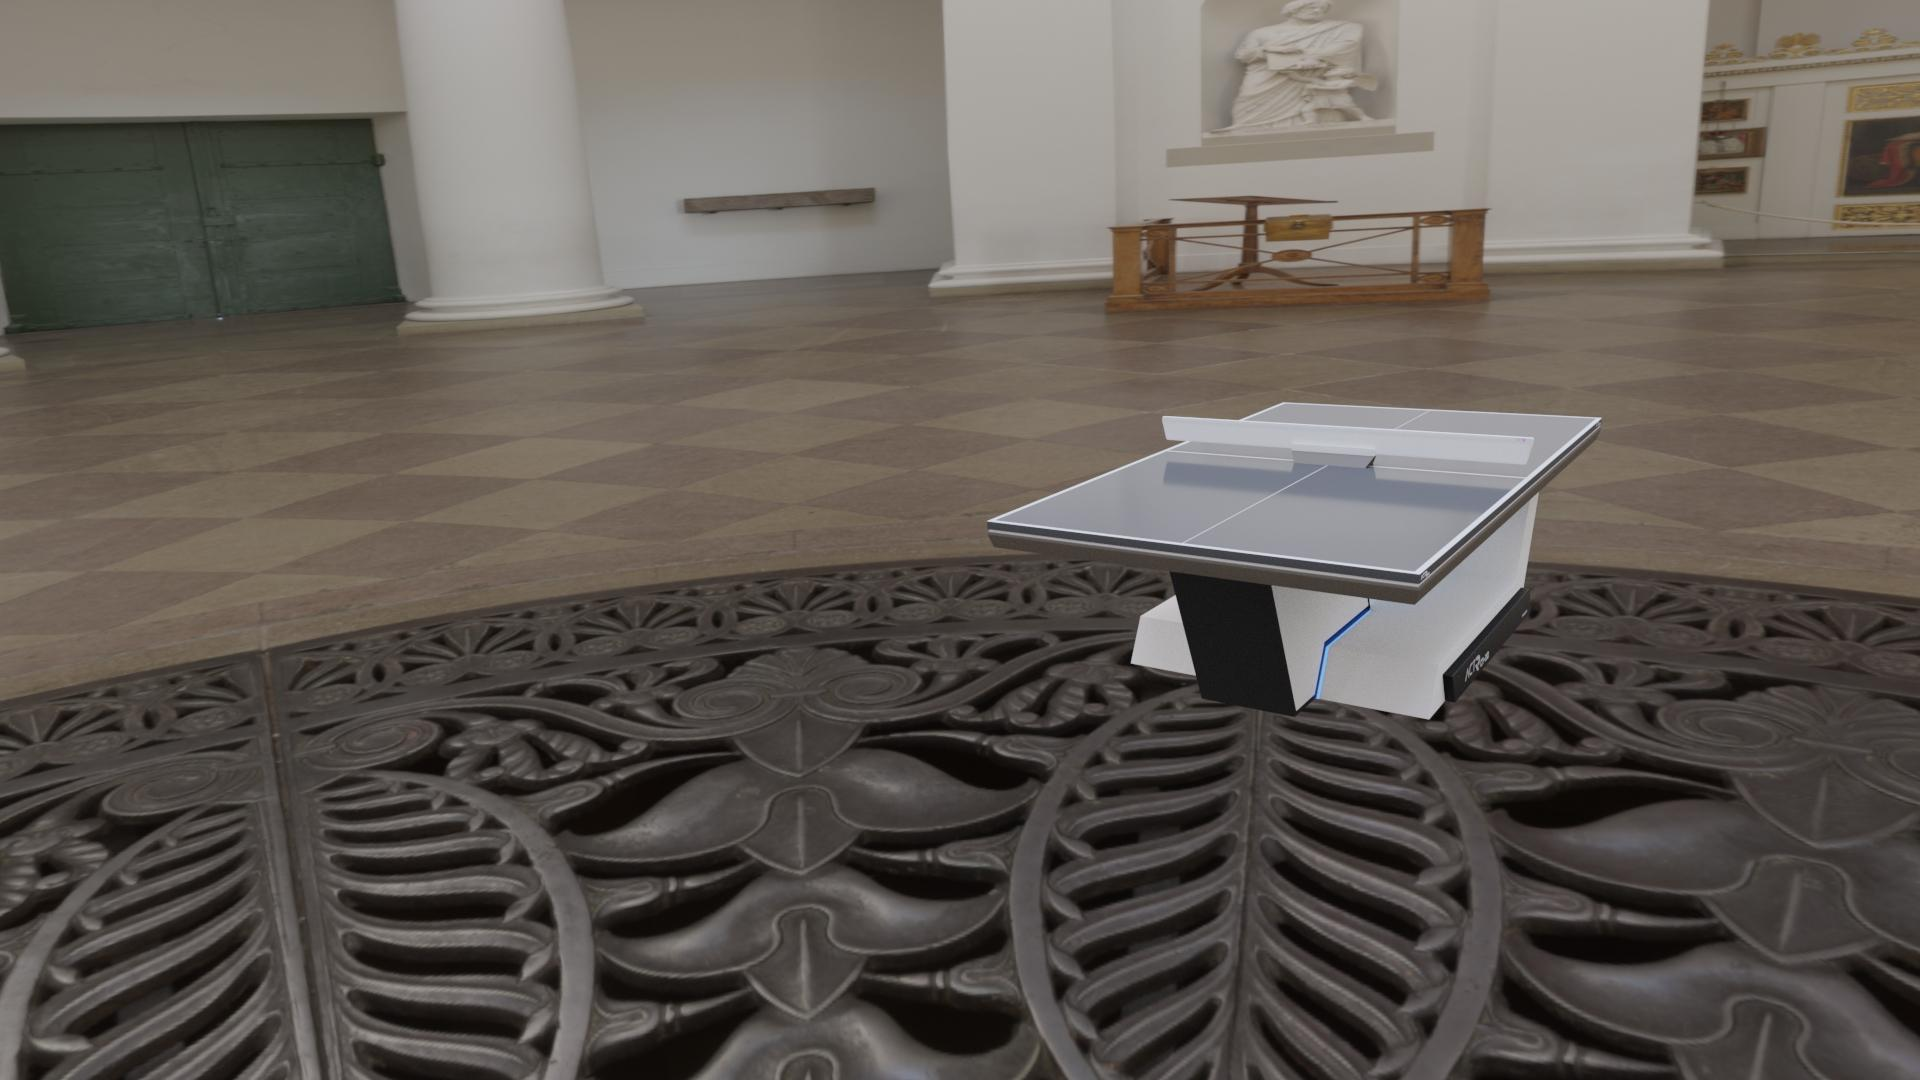table: (994, 404, 1597, 572)
